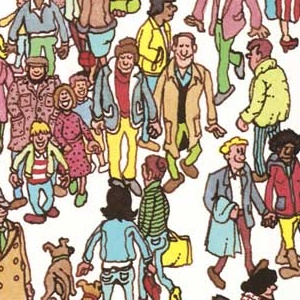Odlaw: (166, 128, 214, 172)
